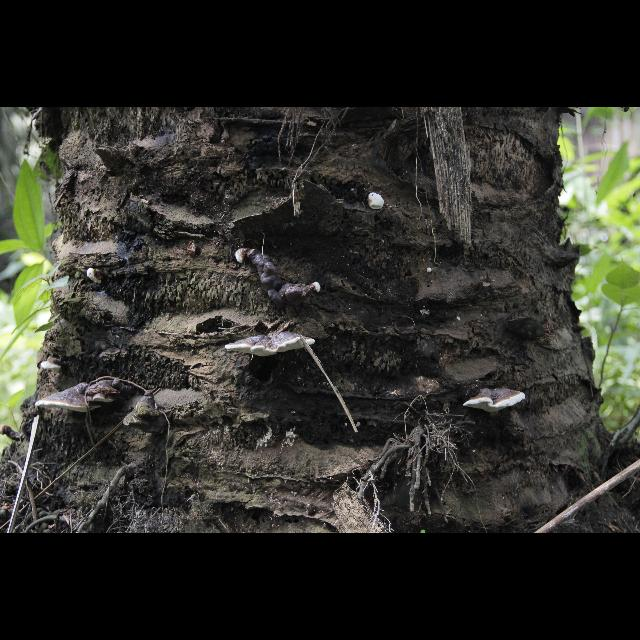ganoderma: (249, 249, 312, 311), (226, 332, 316, 358), (36, 384, 102, 414), (464, 389, 528, 416), (84, 380, 133, 404), (42, 360, 70, 372)
primordium: (369, 194, 385, 211), (88, 270, 106, 285), (236, 249, 248, 265), (313, 283, 322, 293), (2, 427, 11, 437), (428, 269, 433, 274)
